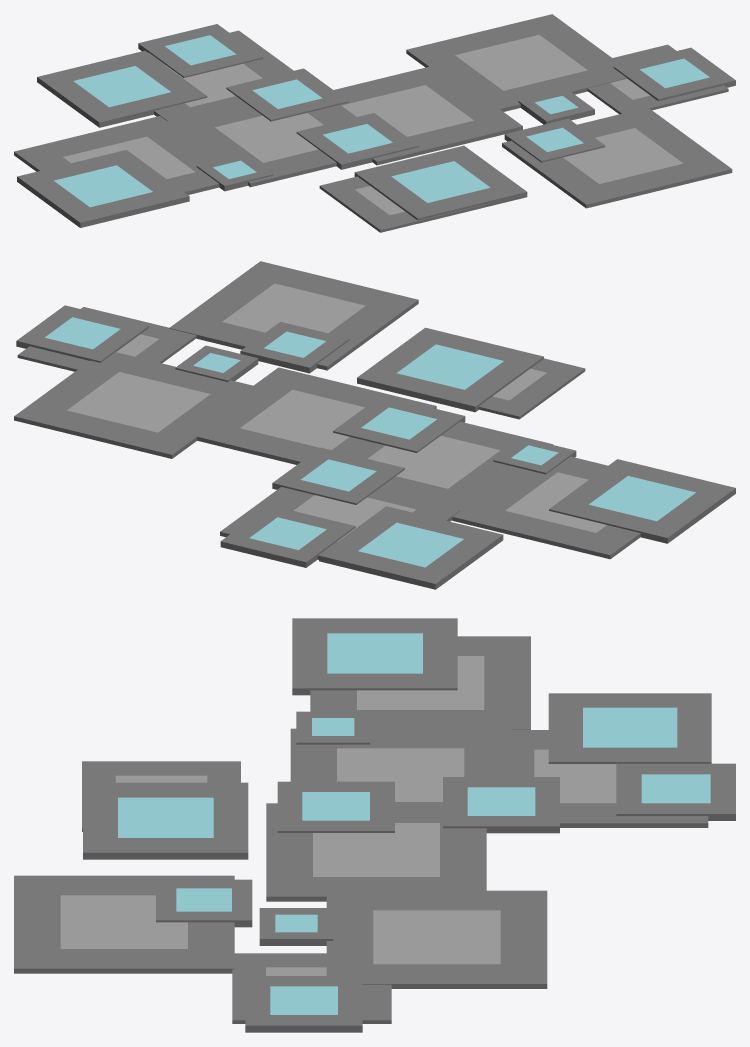
The model's file is ColorPatch1.fbx.
The picture shows the model from 3 angles, top to bottom: view 1: azimuth 30°, elevation 25°; view 2: azimuth 150°, elevation 25°; view 3: azimuth 270°, elevation 25°; orthographic projection. The views are drawn at different scales.
Parts seen in each view (by area): view 1: pCube19; view 2: pCube19; view 3: pCube19.
Boxes of the visible parts, <box> form: pCube19: <box>14,14,735,232</box>; pCube19: <box>14,261,735,589</box>; pCube19: <box>14,618,735,1032</box>.
Size of the model in its own units: 65.56 by 0.5243 by 49.14.
